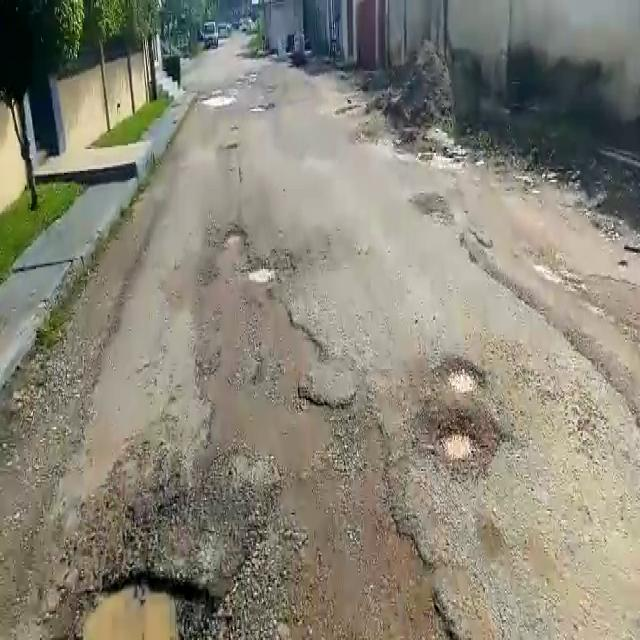Pothole: (82, 573, 217, 640), (434, 423, 479, 467), (442, 355, 482, 399), (246, 267, 276, 284), (224, 230, 248, 248)
